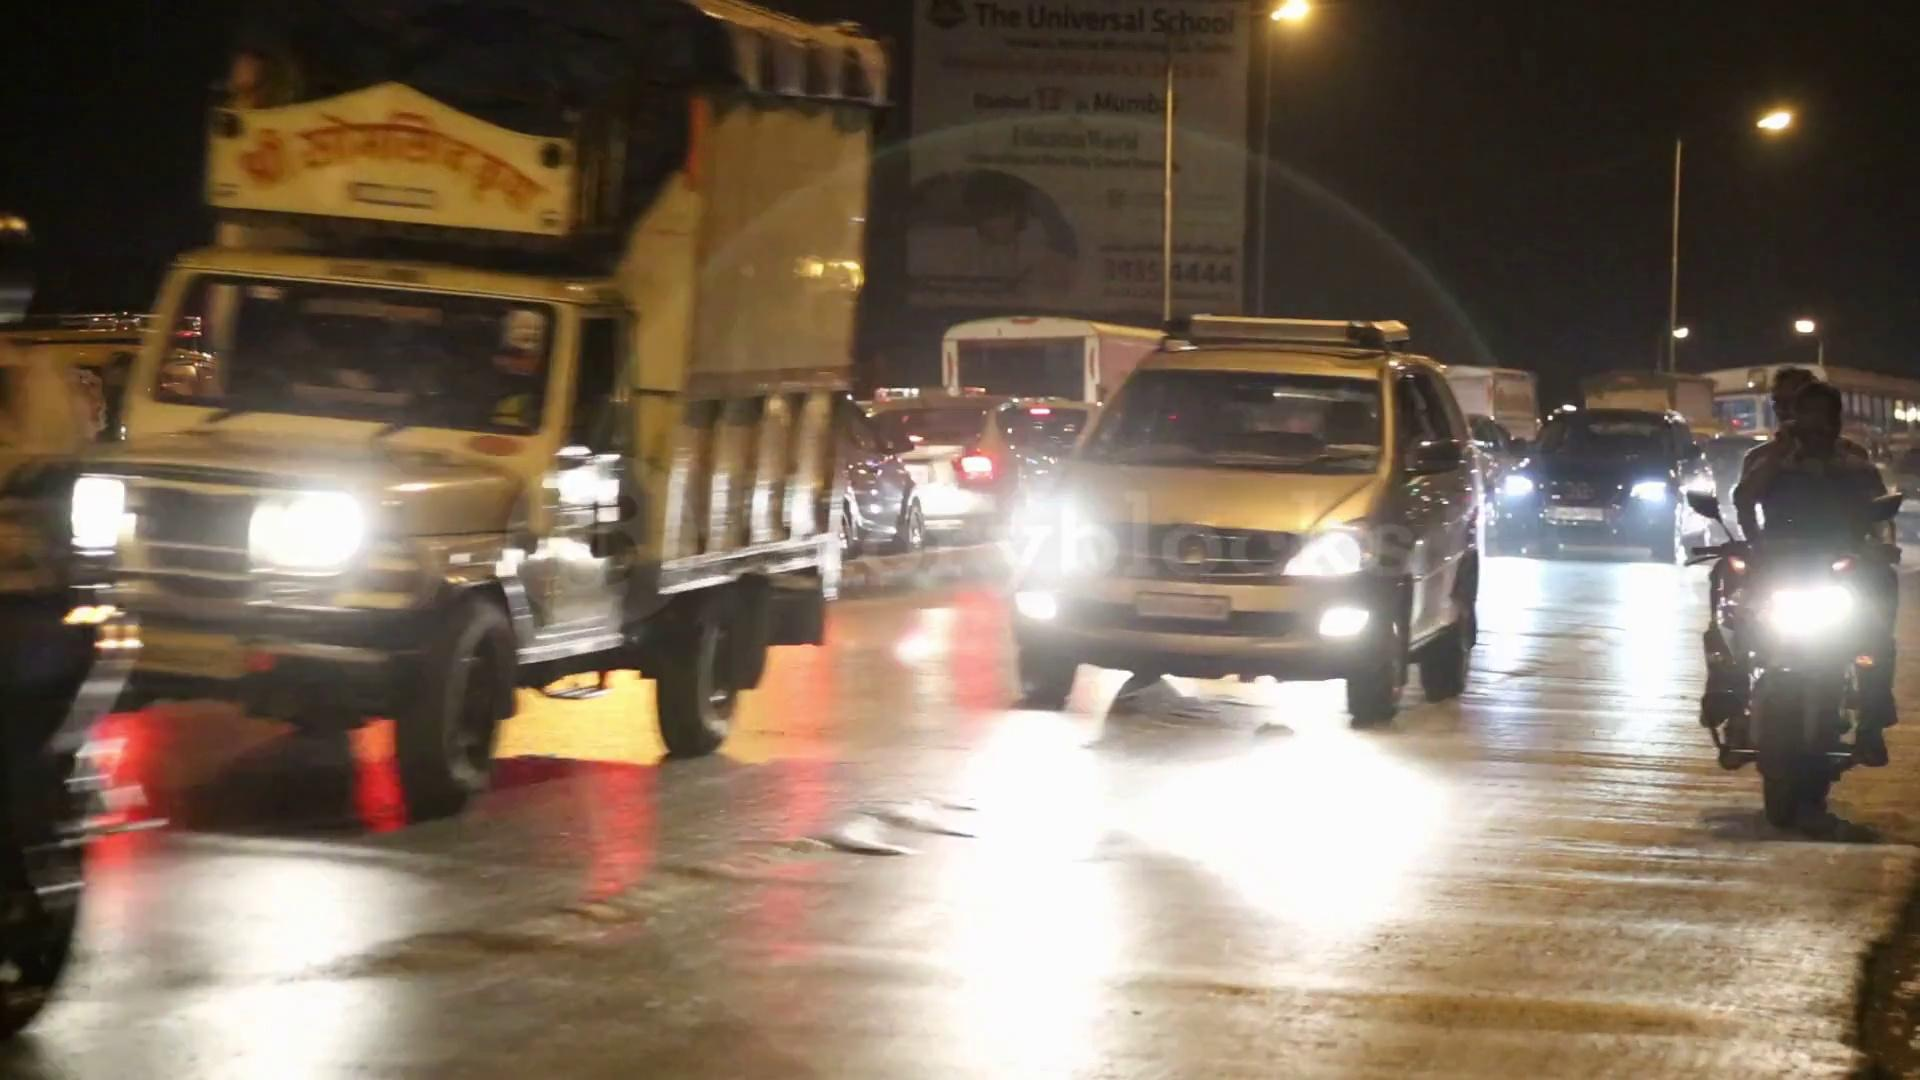rider: (1727, 377, 1902, 769)
without_helmate: (1773, 390, 1864, 459)
